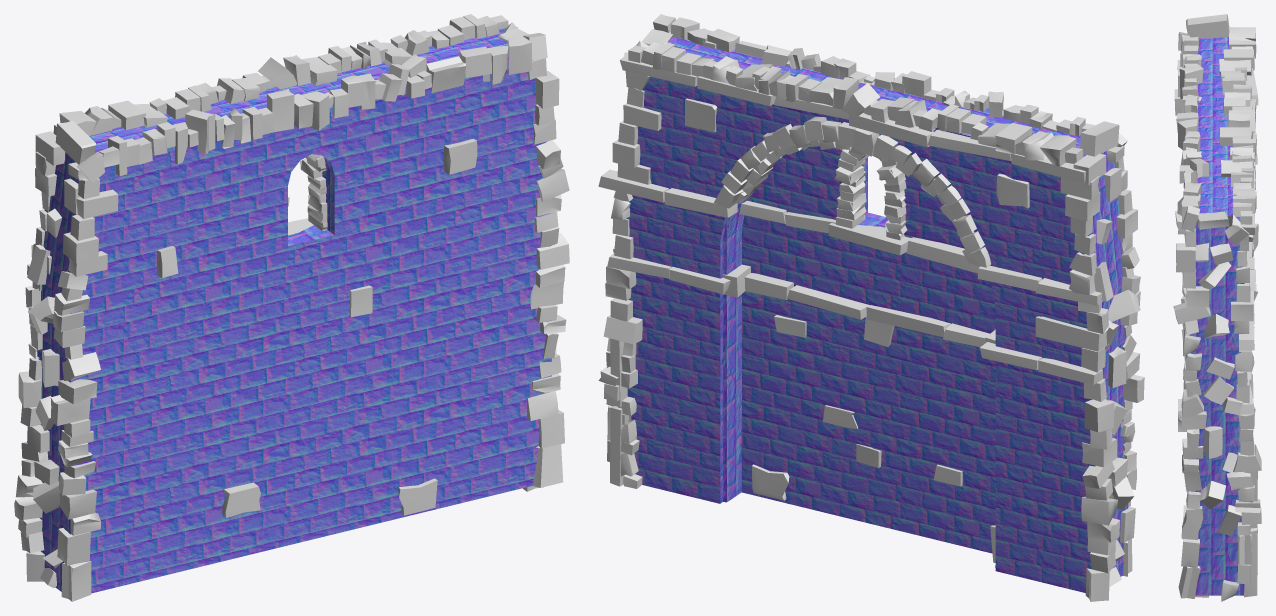
The model's file is RUINED_WALL_LOD1.fbx.
The picture shows the model from 3 angles, left to right: view 1: azimuth 30°, elevation 25°; view 2: azimuth 150°, elevation 25°; view 3: azimuth 270°, elevation 25°; orthographic projection. The views are drawn at different scales.
Visible parts, largest first — view 1: RUINED_WALL; view 2: RUINED_WALL; view 3: RUINED_WALL.
Boxes of the visible parts, <box> form: RUINED_WALL: <box>14,14,569,601</box>; RUINED_WALL: <box>598,14,1144,601</box>; RUINED_WALL: <box>1173,14,1261,601</box>.
Bounding box in the file's own units: 1841 × 1557 × 318.
2 materials, 1 textured.
